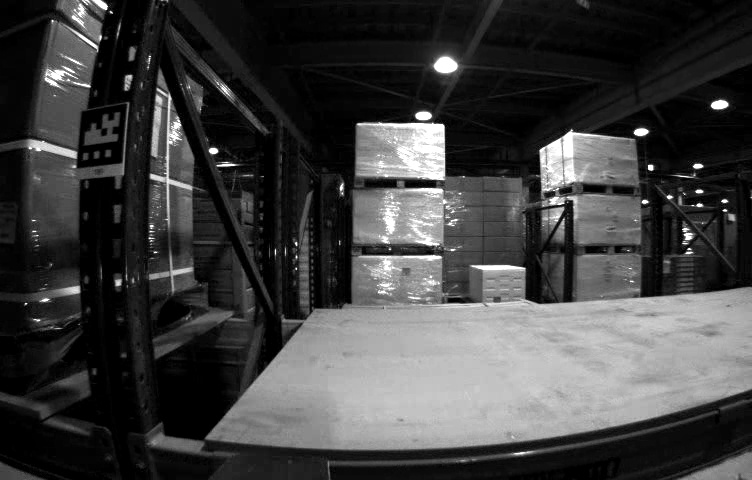True Barcode: (1, 201, 17, 247)
